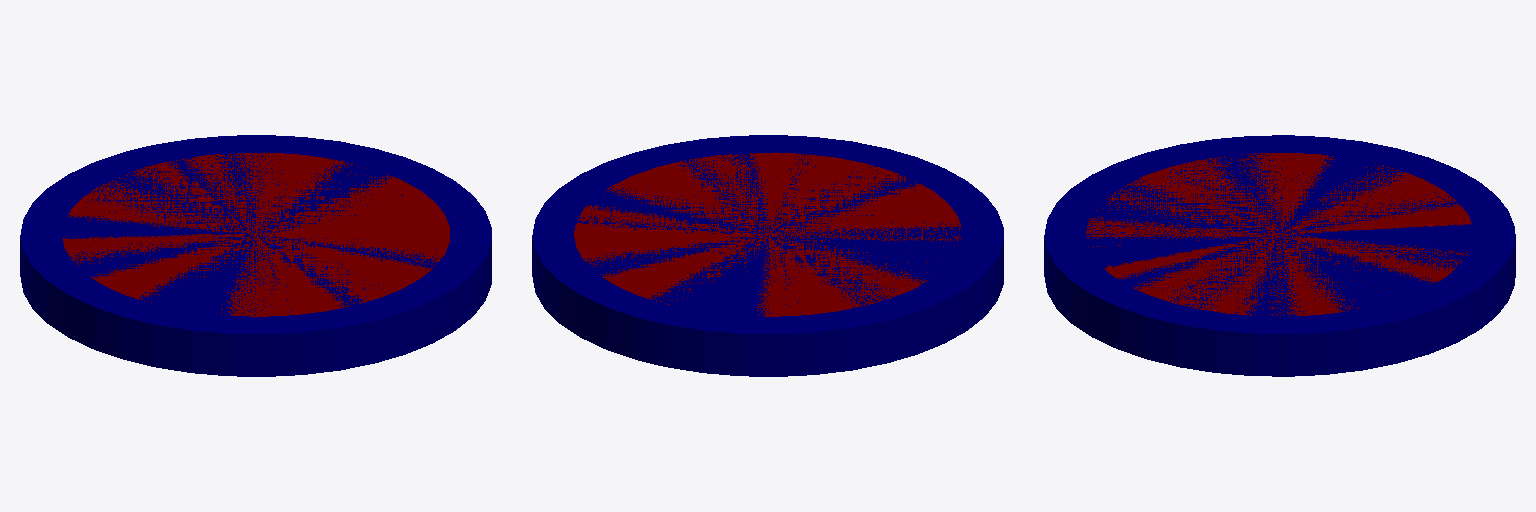
The robot description file, URDF, robot "input_connector_l.SLDASM":
<?xml version="1.0" encoding="utf-8"?>
<!-- This URDF was automatically created by SolidWorks to URDF Exporter! Originally created by [author] ([email redacted]) 
     Commit Version: 1.6.0-4-g7f85cfe  Build Version: 1.6.7995.38578
     For more information, please see http://wiki.ros.org/sw_urdf_exporter -->
<robot
  name="input_connector_l.SLDASM">
  <link
    name="ci_out">
    <inertial>
      <origin
        xyz="0 4.2001E-18 -0.0057"
        rpy="0 0 0" />
      <mass
        value="0" />
      <inertia
        ixx="0.00074704"
        ixy="0"
        ixz="5.6985E-37"
        iyy="0.00074704"
        iyz="1.7343E-36"
        izz="0.0014744" />
    </inertial>
    <visual>
      <origin
        xyz="0 0 0"
        rpy="0 0 0" />
      <geometry>
        <mesh
          filename="package://input_connector_l.SLDASM/meshes/ci_out.STL" />
      </geometry>
      <material
        name="red">
        <color
          rgba="0.5 0 0 1" />
      </material>
    </visual>
    <collision>
      <origin
        xyz="0 0 0"
        rpy="0 0 0" />
      <geometry>
        <mesh
          filename="package://input_connector_l.SLDASM/meshes/ci_out.STL" />
      </geometry>
    </collision>
  </link>
  <link
    name="ci_body">
    <inertial>
      <origin
        xyz="0 4.2001E-18 -0.0057"
        rpy="0 0 0" />
      <mass
        value="0.90761" />
      <inertia
        ixx="0.00074704"
        ixy="0"
        ixz="5.6985E-37"
        iyy="0.00074704"
        iyz="1.7343E-36"
        izz="0.0014744" />
    </inertial>
    <visual>
      <origin
        xyz="0 0 0"
        rpy="0 0 0" />
      <geometry>
        <mesh
          filename="package://input_connector_l.SLDASM/meshes/ci_body.STL" />
      </geometry>
      <material
        name="blue">
        <color
          rgba="0 0 0.5 1" />
      </material>
    </visual>
    <collision>
      <origin
        xyz="0 0 0"
        rpy="0 0 0" />
      <geometry>
        <mesh
          filename="package://input_connector_l.SLDASM/meshes/ci_body.STL" />
      </geometry>
    </collision>
  </link>
  <joint
    name="ci_large_1"
    type="fixed">
    <origin
      xyz="0 0 0"
      rpy="0 0 0" />
    <parent
      link="ci_out" />
    <child
      link="ci_body" />
    <axis
      xyz="0 0 0" />
  </joint>
  <link
    name="ci_in">
    <inertial>
      <origin
        xyz="-5.5075E-34 -1.7044E-17 0.0057"
        rpy="0 0 0" />
      <mass
        value="0" />
      <inertia
        ixx="0.00074704"
        ixy="0"
        ixz="5.6985E-37"
        iyy="0.00074704"
        iyz="1.7343E-36"
        izz="0.0014744" />
    </inertial>
    <visual>
      <origin
        xyz="0 0 0"
        rpy="0 0 0" />
      <geometry>
        <mesh
          filename="package://input_connector_l.SLDASM/meshes/ci_in.STL" />
      </geometry>
      <material
        name="blue">
        <color
          rgba="0 0 0.5 1" />
      </material>
    </visual>
    <collision>
      <origin
        xyz="0 0 0"
        rpy="0 0 0" />
      <geometry>
        <mesh
          filename="package://input_connector_l.SLDASM/meshes/ci_in.STL" />
      </geometry>
    </collision>
  </link>
  <joint
    name="ci_large_2"
    type="fixed">
    <origin
      xyz="0 0 -0.0114"
      rpy="0 0 0" />
    <parent
      link="ci_body" />
    <child
      link="ci_in" />
    <axis
      xyz="0 0 0" />
  </joint>
</robot>

--- What the picture shows (computed from the rendered views, not written in the file) ---
Views: 3 orthographic renders of the robot side by side, from view 1: azimuth 30°, elevation 25°; view 2: azimuth 150°, elevation 25°; view 3: azimuth 270°, elevation 25°.
Robot: input_connector_l.SLDASM — 3 links, 2 joints (2 fixed); root link ci_out; default pose: all joints at 0.
Visible links, largest first — view 1: ci_body, ci_out; view 2: ci_body, ci_out; view 3: ci_body, ci_out.
Link boxes in pixels (box(x1,y1,x2,y2)): ci_body: box(20, 135, 491, 376); ci_out: box(63, 152, 449, 316); ci_body: box(532, 135, 1003, 376); ci_out: box(574, 152, 961, 316); ci_body: box(1044, 135, 1515, 376); ci_out: box(1086, 153, 1471, 316).
Size in the robot's own frame: 0.1139 by 0.114 by 0.0114 metres.
3 mesh visuals loaded from 3 distinct referenced files (3 binary STL).